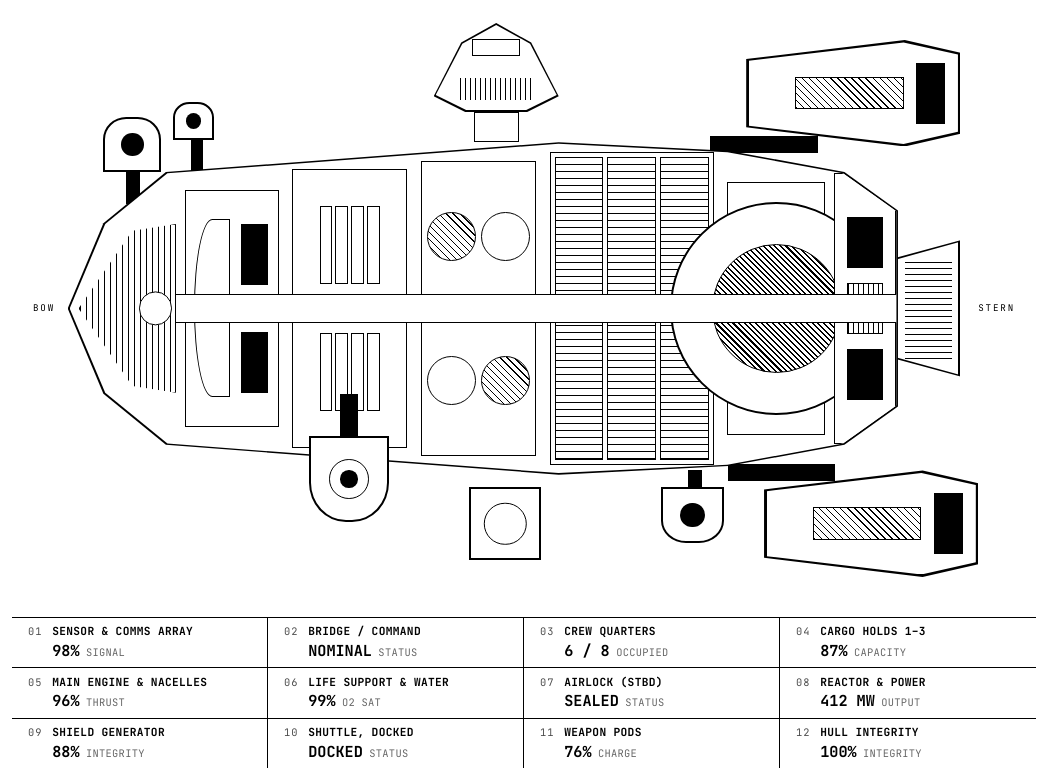
ShipStatusOverview › highlights the diagram region and activates the button for the clicked system
Click the button "Reactor & Power". click: (908, 694)
box: [780,668,1036,719]
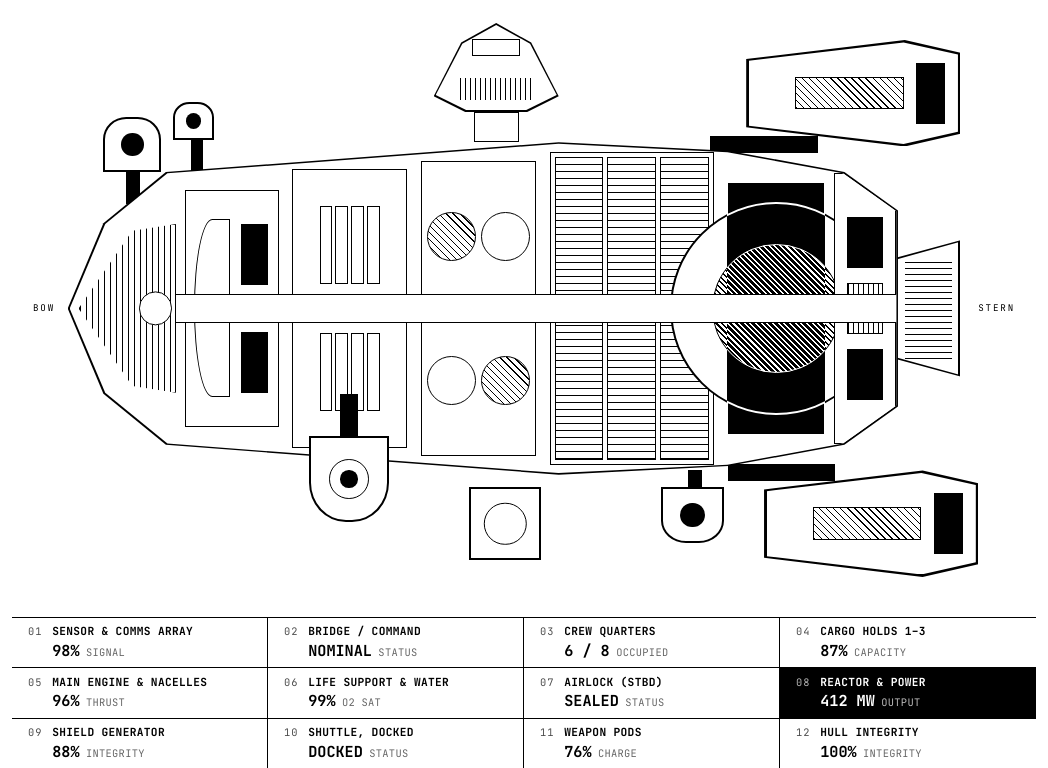
Result: the element with class "ship-diagram__highlight" is shown at [727,182,825,435]
